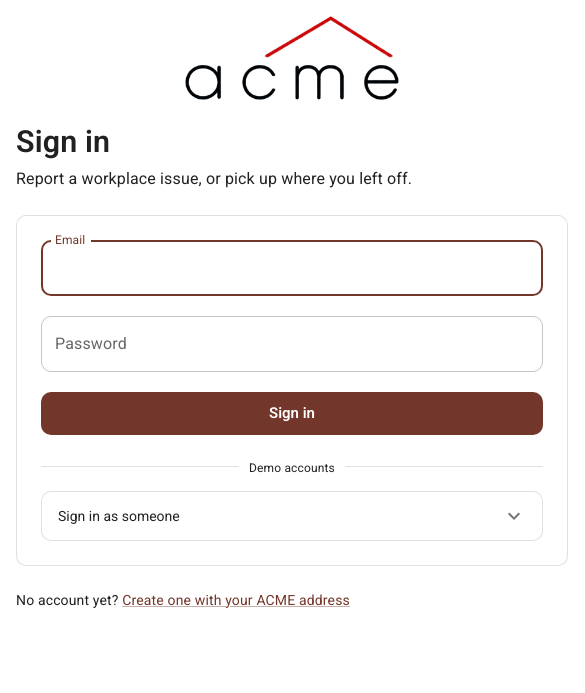
Test: LoginPage › explains a network failure rather than showing a bare error
The image size is (585, 693).
Type "jordan.lee@acme.inc" into the field labelled "Email".
click(292, 268); type("jordan.lee@acme.inc")  # box [41, 240, 543, 296]
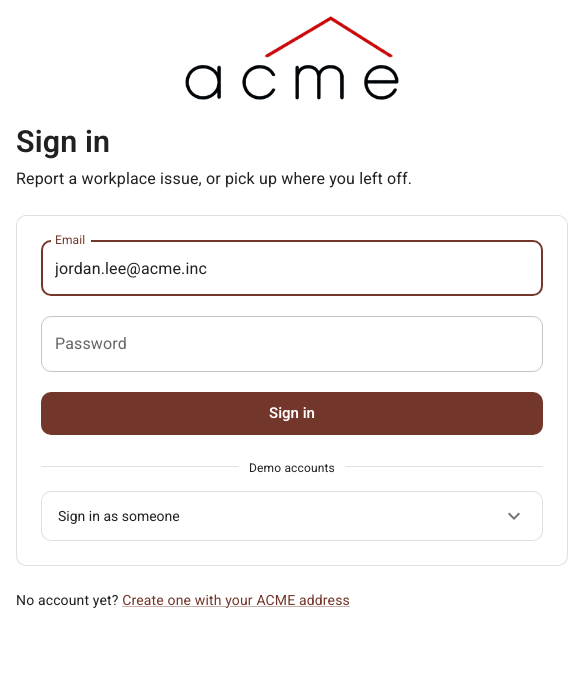
Type "correct horse battery" into the password field labelled "Password".
click(292, 344); type("correct horse battery")  # box [41, 316, 543, 372]
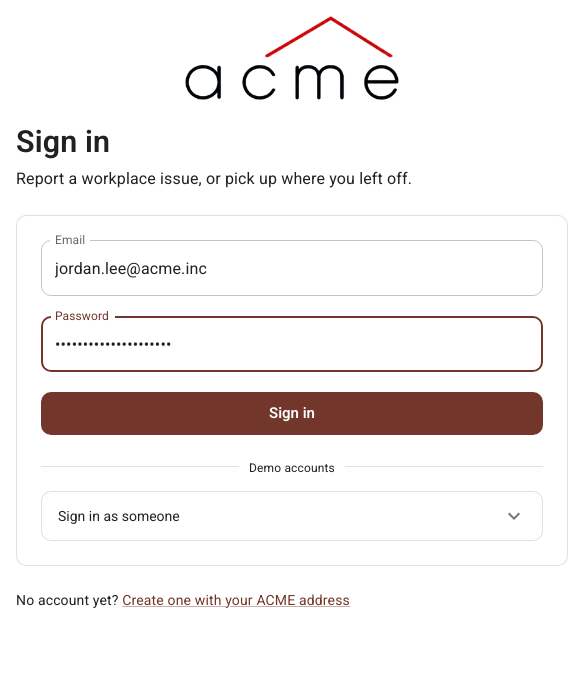
Click the button "Sign in".
click(292, 414)  # box [41, 392, 543, 435]
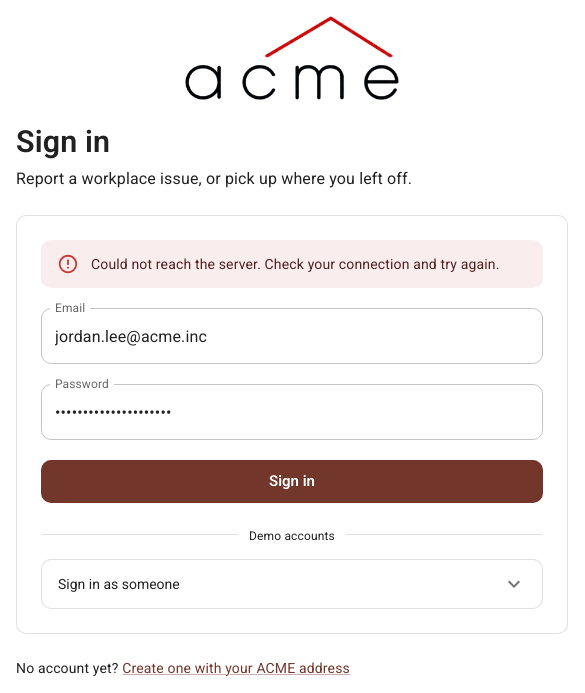
expect the text "Could not reach the server" is shown: met, box [91, 256, 500, 272]
